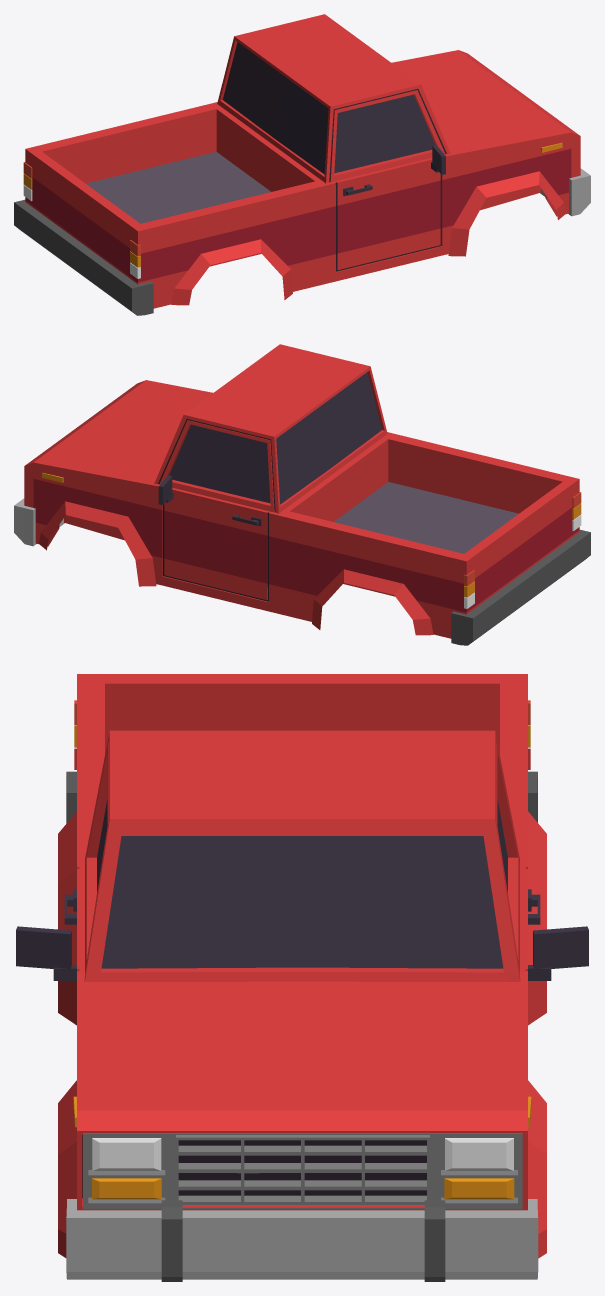
File: carcaça carro2.fbx
3 views of the same model, one above another, from view 1: azimuth 30°, elevation 25°; view 2: azimuth 150°, elevation 25°; view 3: azimuth 270°, elevation 25° (orthographic). The views are drawn at different scales.
Visible parts, largest first — view 1: Car.010; view 2: Car.010; view 3: Car.010.
Part boxes in pixels (<box>): Car.010: <box>14,14,590,315</box>; Car.010: <box>14,344,590,645</box>; Car.010: <box>16,674,588,1281</box>.
Size of the model in its own units: 1501 by 528 by 806.
